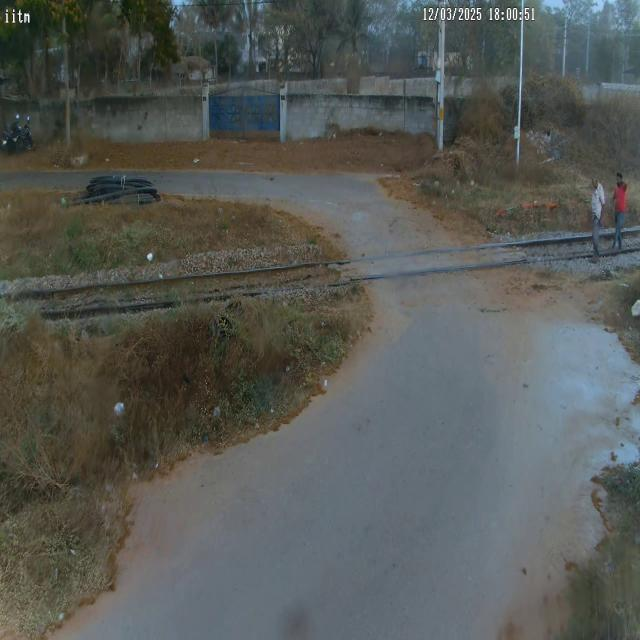objects: (584, 166, 606, 266), (612, 165, 630, 258)
